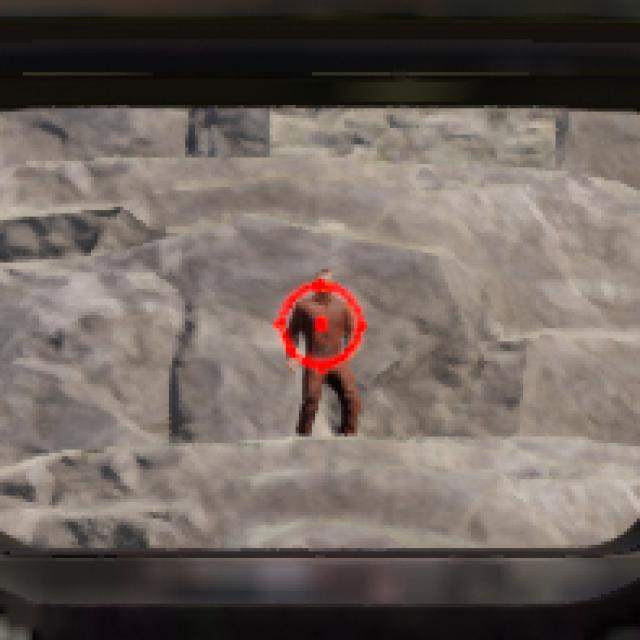Player: (288, 292, 362, 437)
